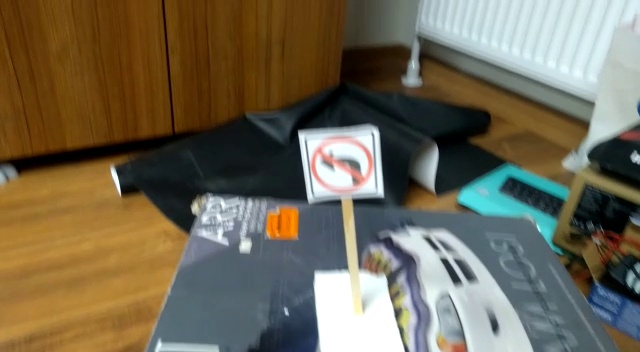sola_donulmez: (311, 128, 376, 199)
